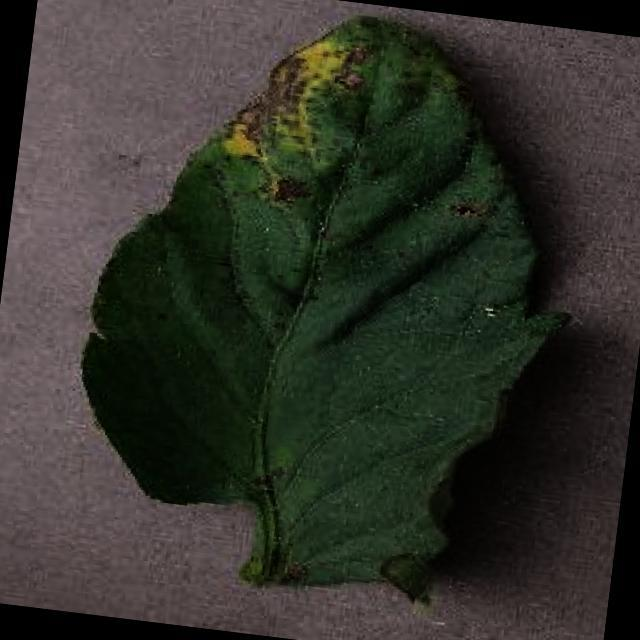Tomato bacterial spot leaf: (45, 0, 613, 631)
